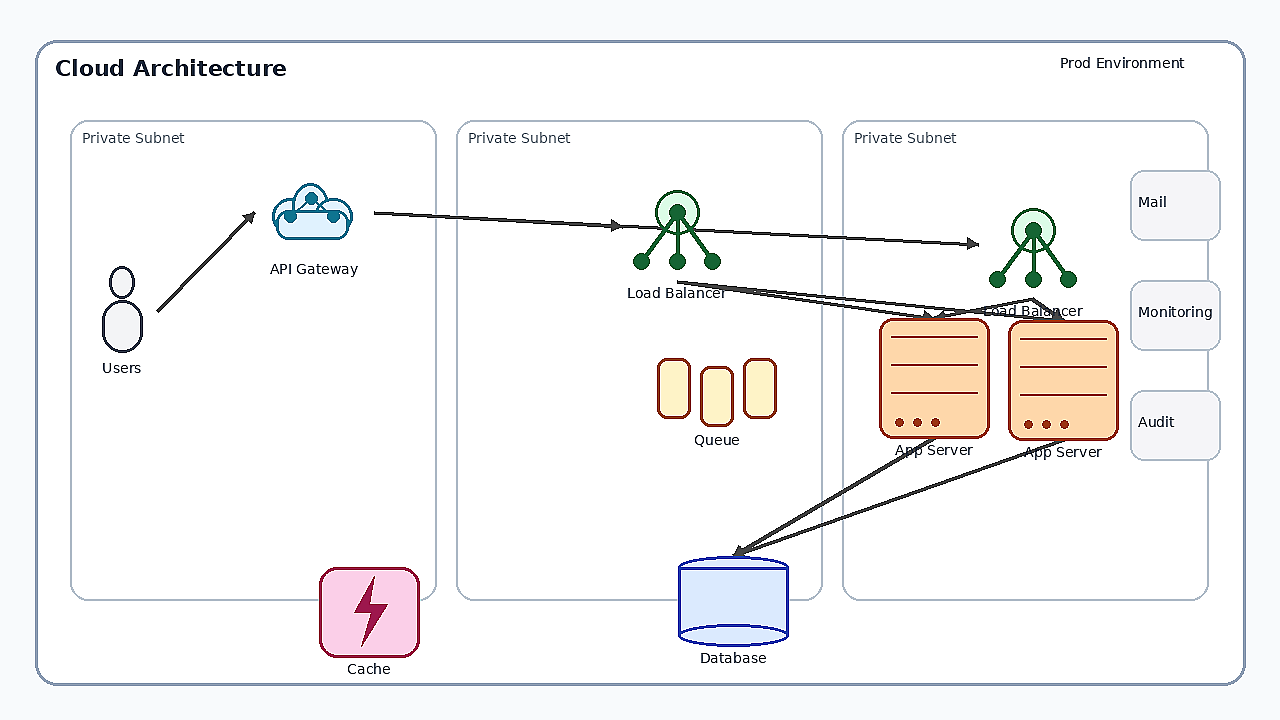API Gateway: (254, 167, 374, 257)
Application Server: (1008, 320, 1118, 440), (879, 318, 989, 438)
Cache: (319, 567, 419, 657)
Database: (678, 556, 788, 646)
Load Balancer: (978, 189, 1088, 299), (622, 171, 732, 281)
Message Queue: (657, 358, 777, 428)
User: (87, 266, 157, 356)
